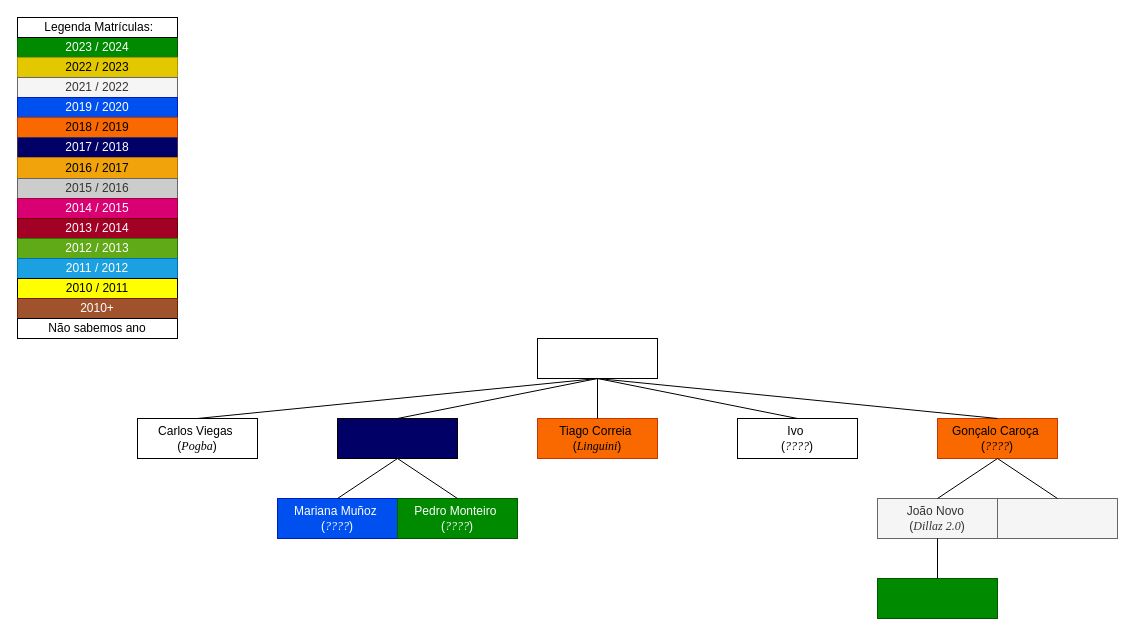
Some shapes in this 1135 by 636 pixel diagram are drawn without their labels. Here are the shapes that lost their labels. From the top down, the centre of each, then its label:
At point 597,358: "Vitor Paiva ( ???? )".
At point 397,438: "Patrícia Padeiro ( )".
At point 1057,518: "Joana Pires ( Terrorista )".
At point 937,598: "Bernardo Jaco ( ???? )".
